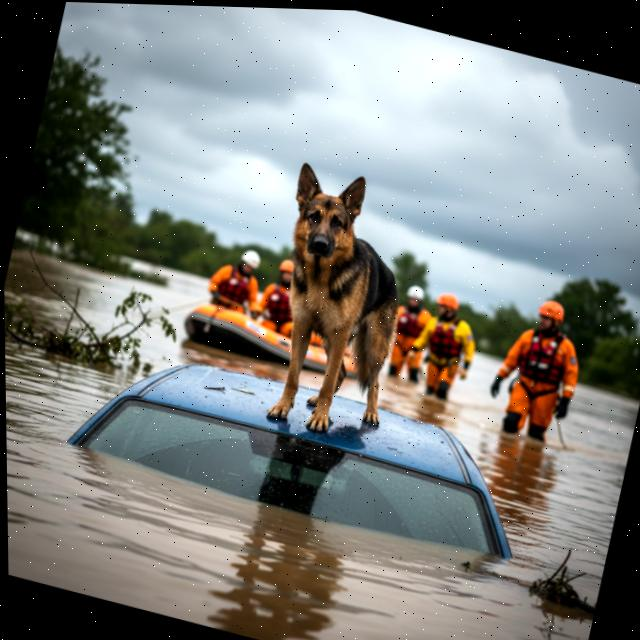dog: (220, 151, 449, 469)
rescuer: (476, 284, 608, 460), (406, 275, 492, 412), (375, 270, 446, 394), (195, 227, 268, 328), (246, 249, 309, 348)
